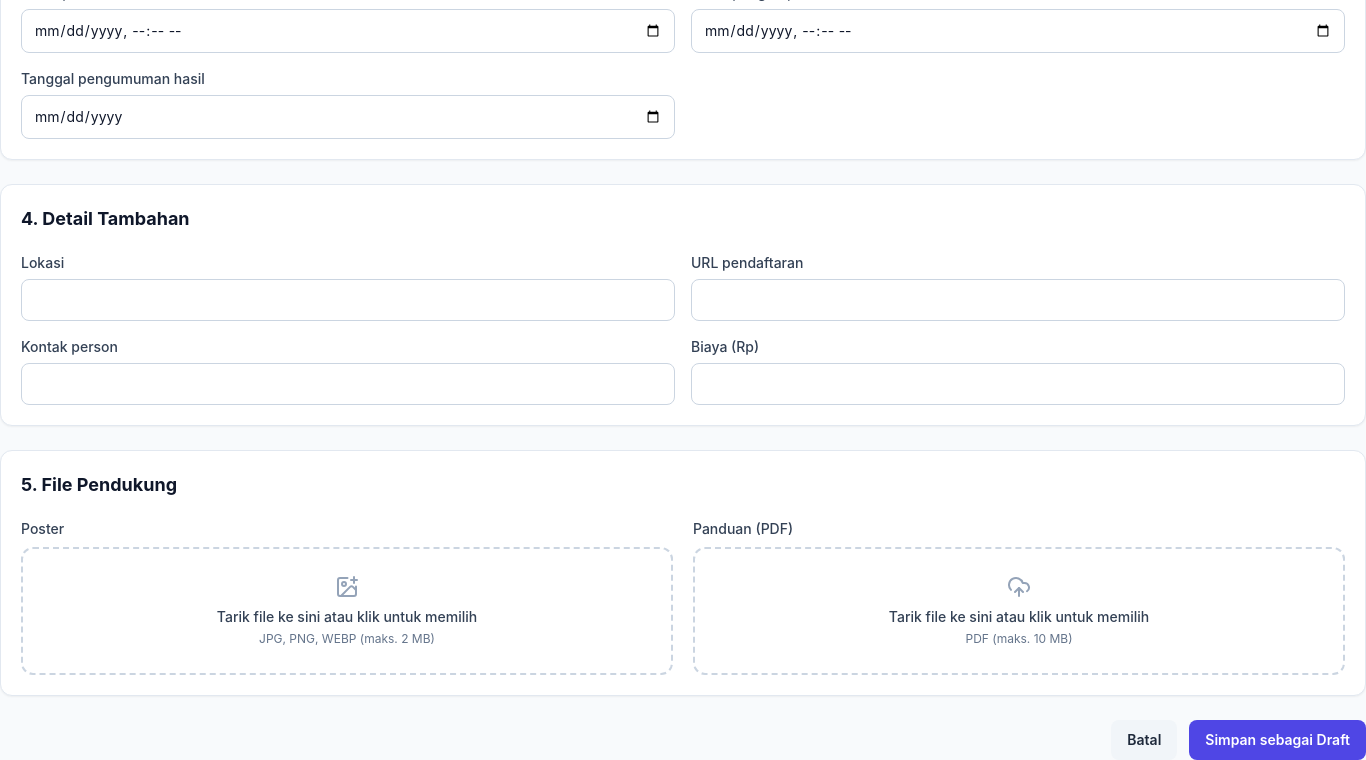
Test: CompetitionForm › shows required field errors when submitted empty
The width and height of the screenshot is (1366, 760).
(page scrolled)
Click the button "Simpan sebagai Draft". click: (1278, 740)
box: [1189,720,1365,759]
(page scrolled)
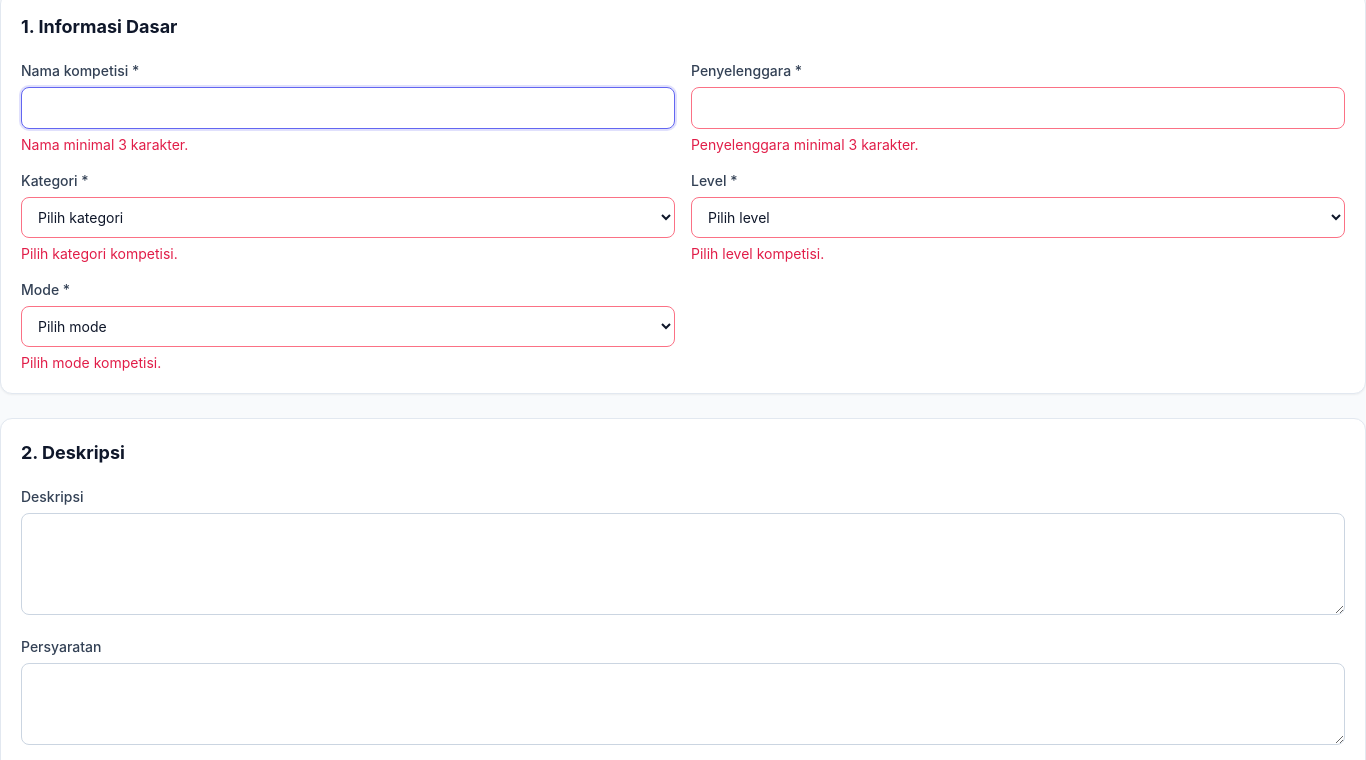
Now the text "Nama minimal 3 karakter." is shown, box [21,136,188,153]
Now the text "Penyelenggara minimal 3 karakter." is shown, box [691,136,918,153]
Now the text "Pilih kategori kompetisi." is shown, box [21,245,178,262]
